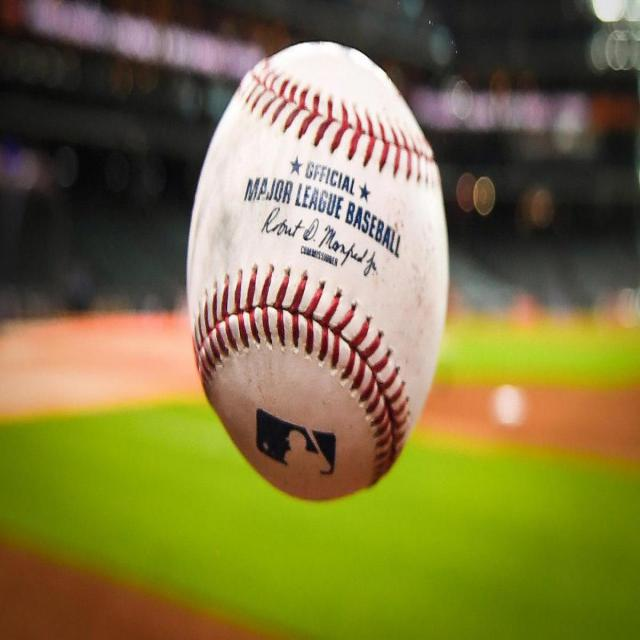baseball: (189, 42, 449, 502)
